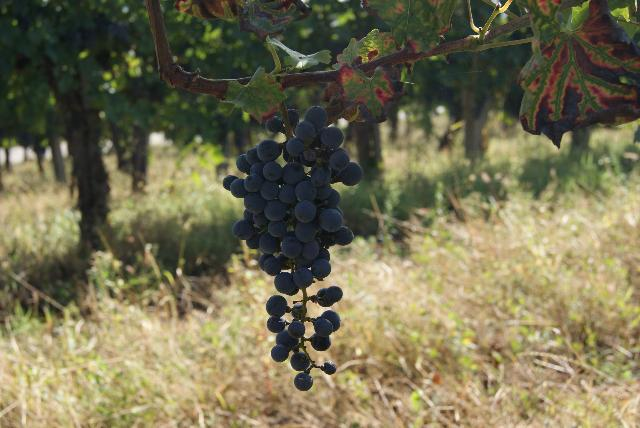grapes: (230, 124, 361, 391)
